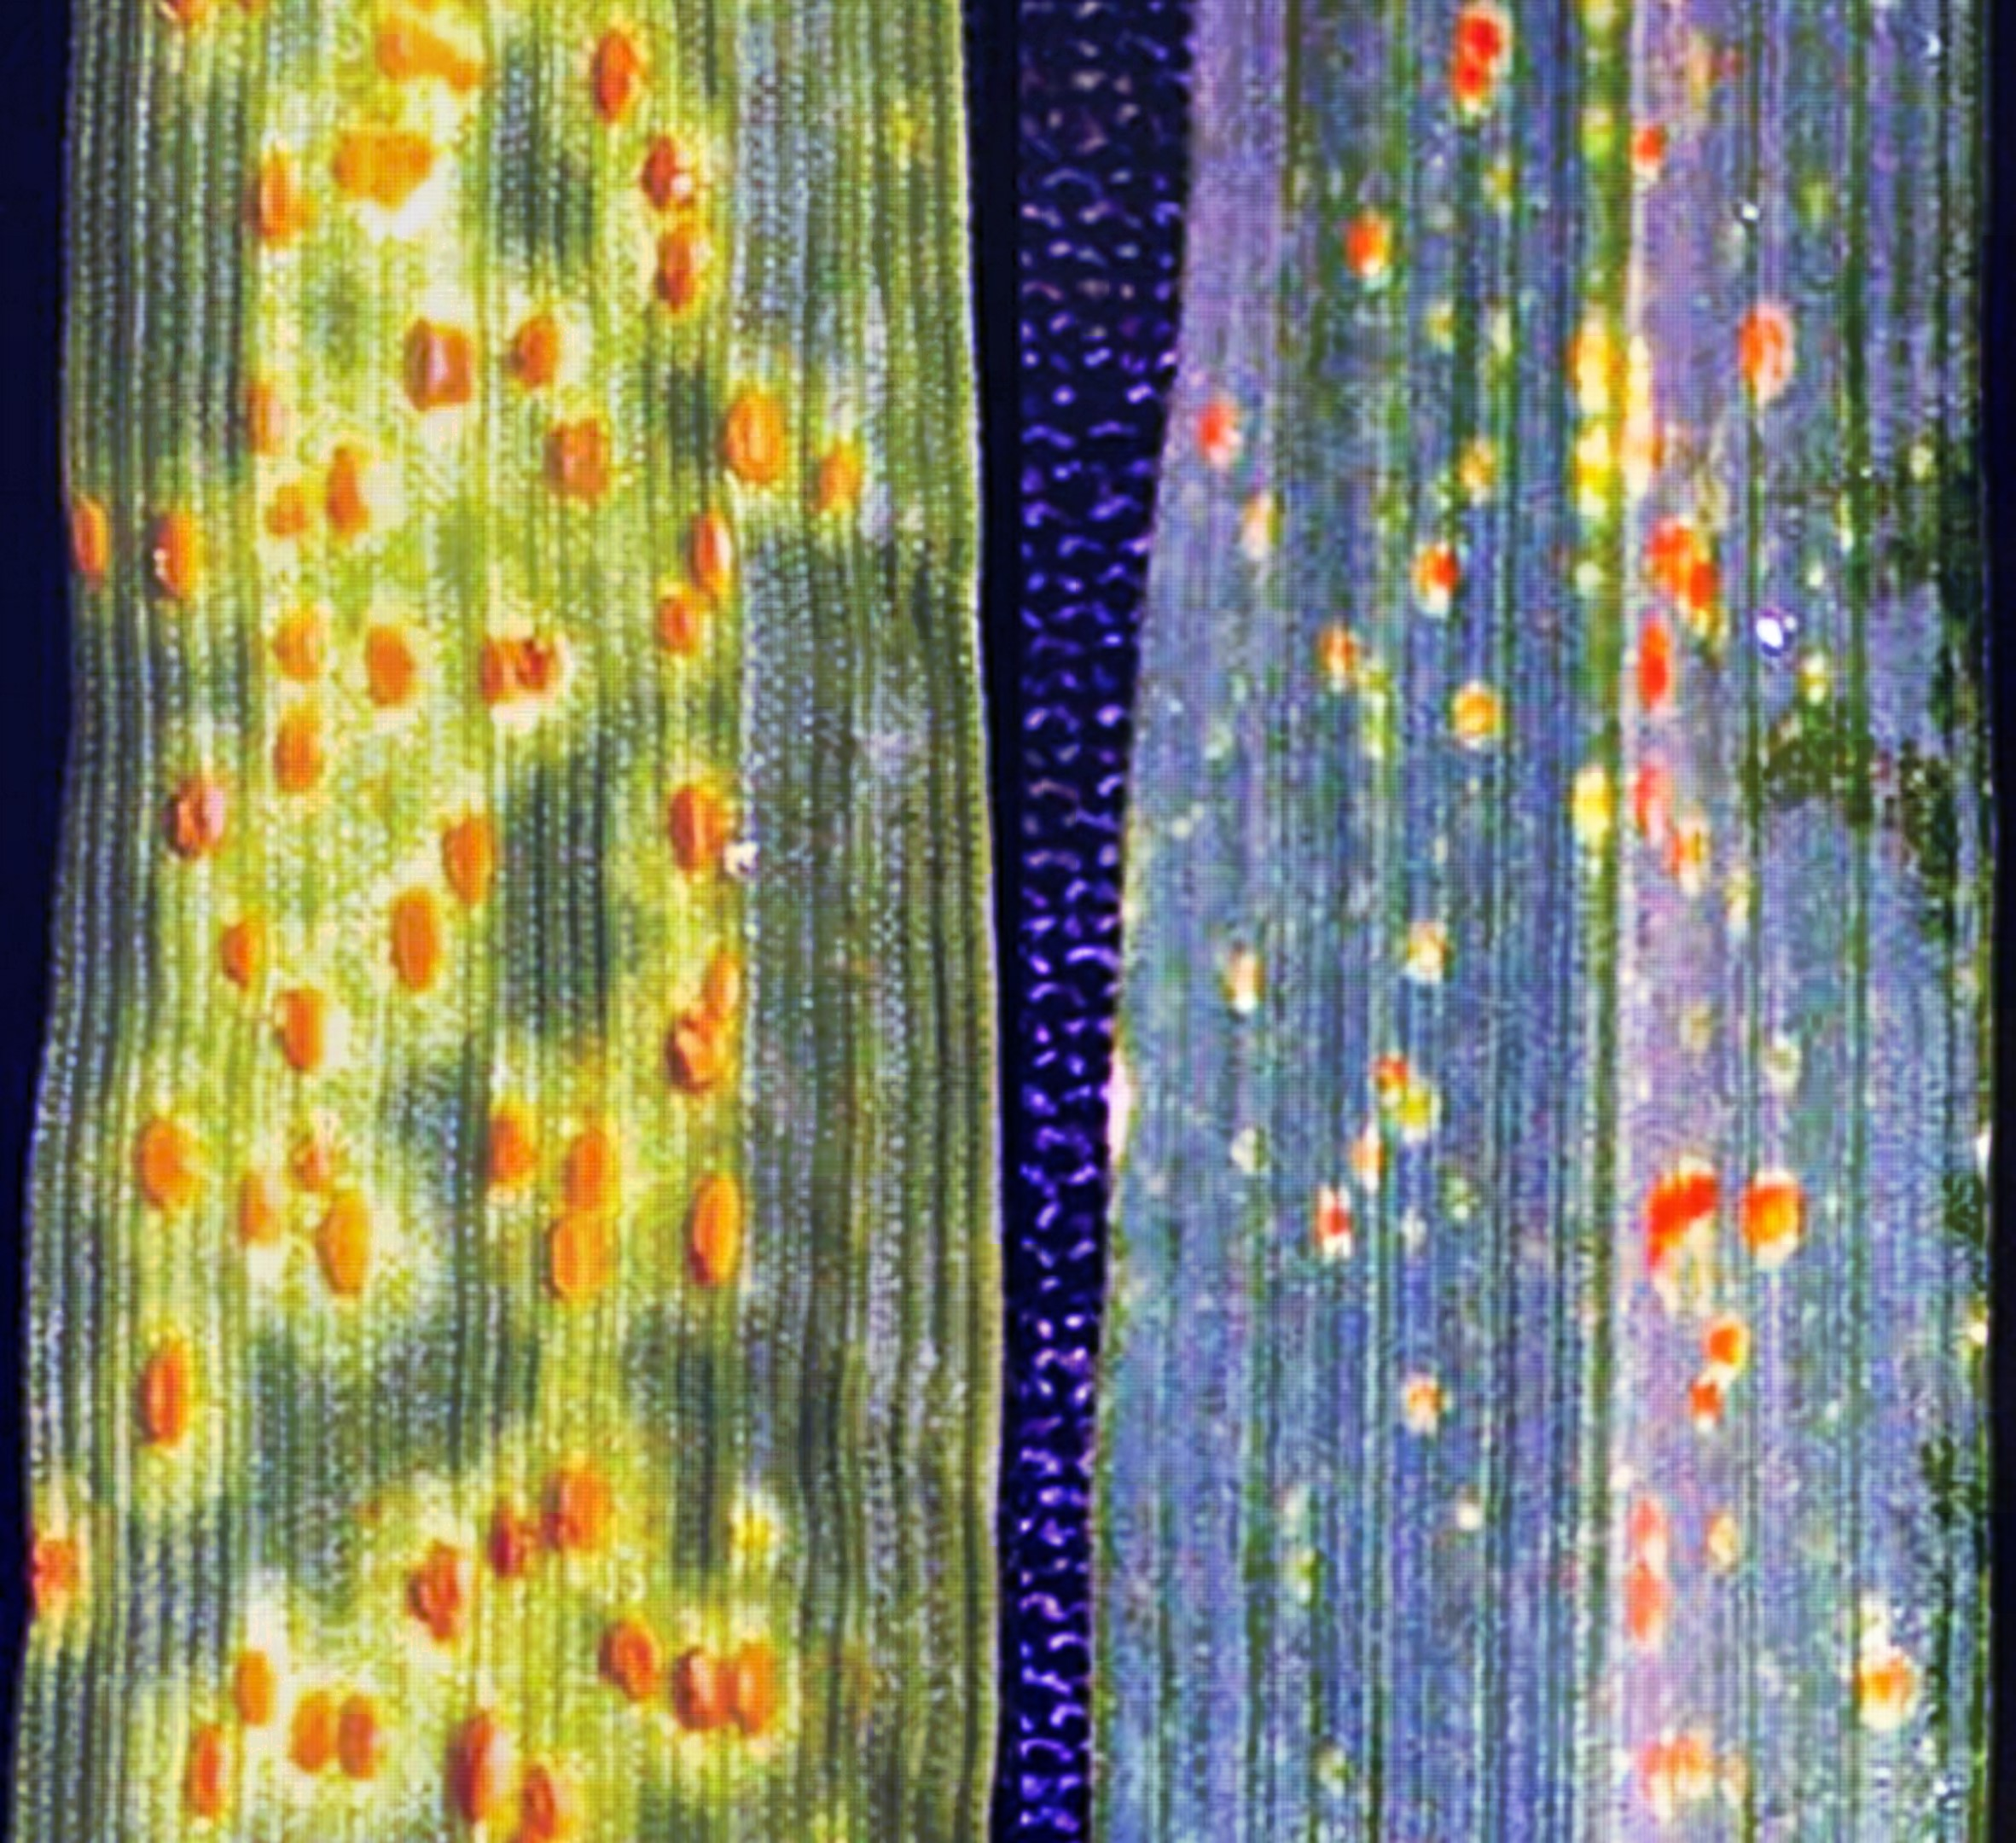Leaf Rust: (53, 165, 1050, 1843), (1171, 162, 2016, 1629)
